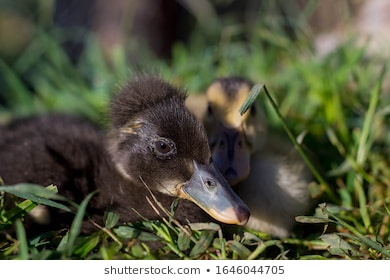duck: (1, 63, 270, 235)
